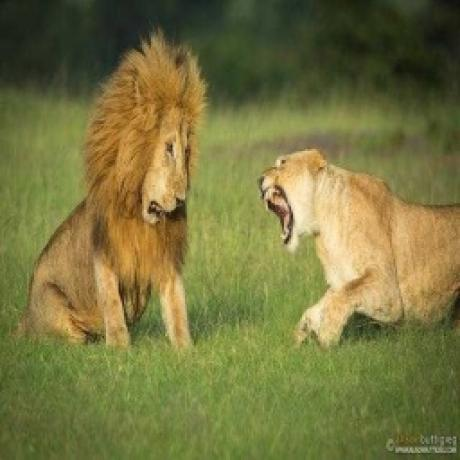Lion: (23, 34, 205, 358), (256, 145, 460, 341)
